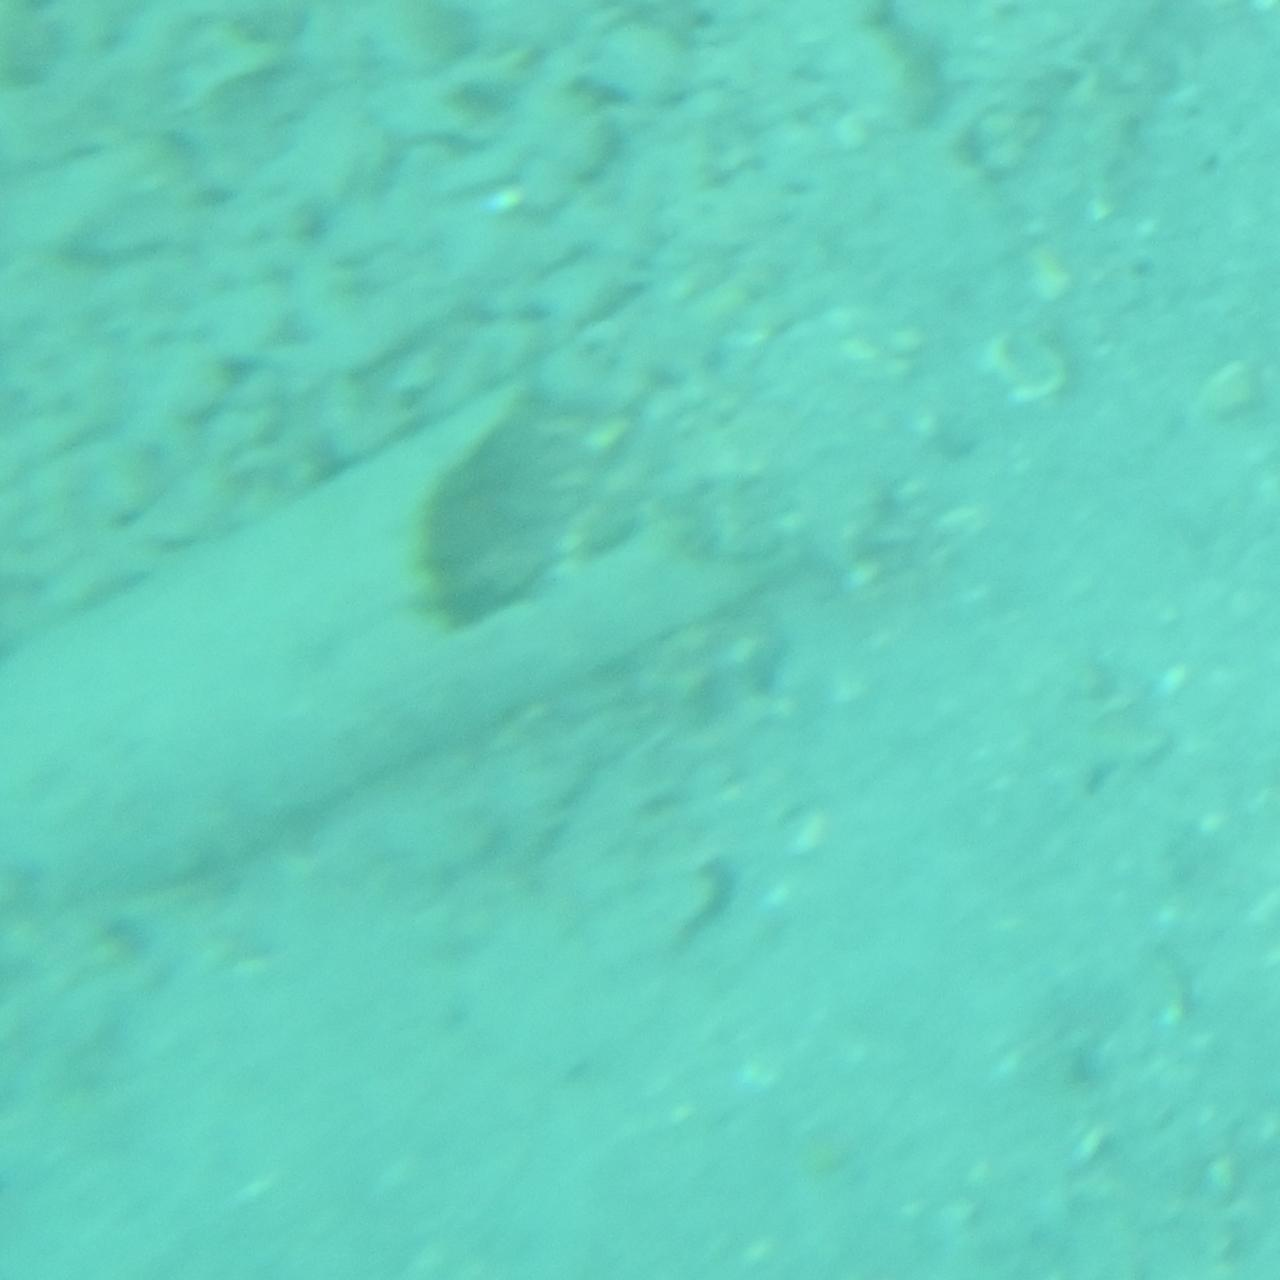Rifiuto: (0, 367, 736, 913)
